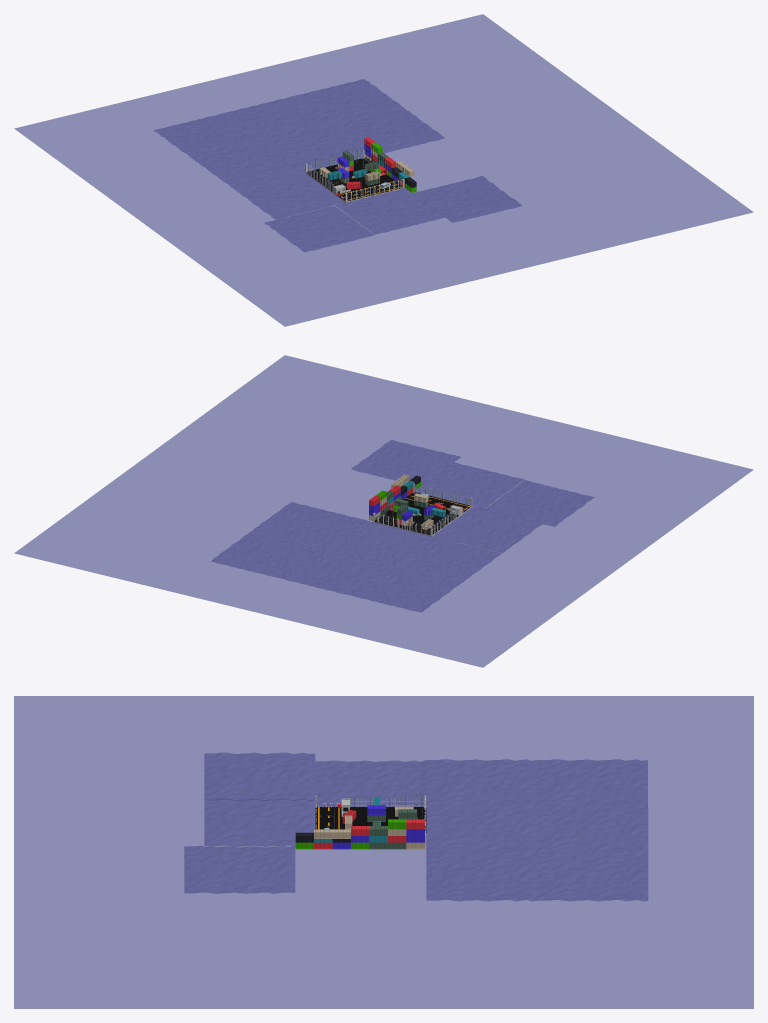
Rendered from Mesh_Map_Cargo.fbx.
3 views of the same model, one above another, from view 1: azimuth 30°, elevation 25°; view 2: azimuth 150°, elevation 25°; view 3: azimuth 270°, elevation 25° (orthographic). The views are drawn at different scales.
Parts seen in each view (by area): view 1: SM_Prop_Pallet_01.004; view 2: SM_Prop_Pallet_01.004; view 3: SM_Prop_Pallet_01.004.
Part boxes in pixels (x1,y1,x2,y2): SM_Prop_Pallet_01.004: (14, 14, 753, 326); SM_Prop_Pallet_01.004: (14, 355, 753, 667); SM_Prop_Pallet_01.004: (14, 696, 753, 1008).
Bounding box in the file's own units: 20012 × 898 × 20012.
